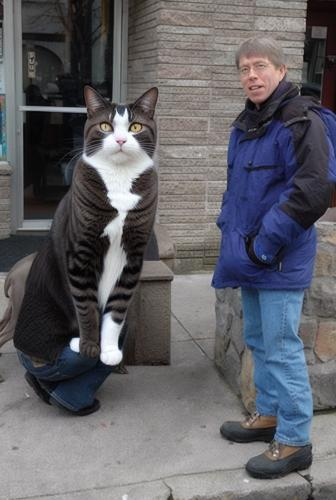cat: (46, 82, 170, 365)
dog: (1, 235, 182, 388)
person: (210, 36, 336, 482), (11, 181, 142, 419)
person/foot: (245, 441, 314, 479), (220, 411, 278, 444), (50, 396, 102, 417), (26, 372, 52, 405)
person/hand: (113, 245, 128, 268)
person/head: (238, 37, 287, 104), (66, 185, 109, 239)
